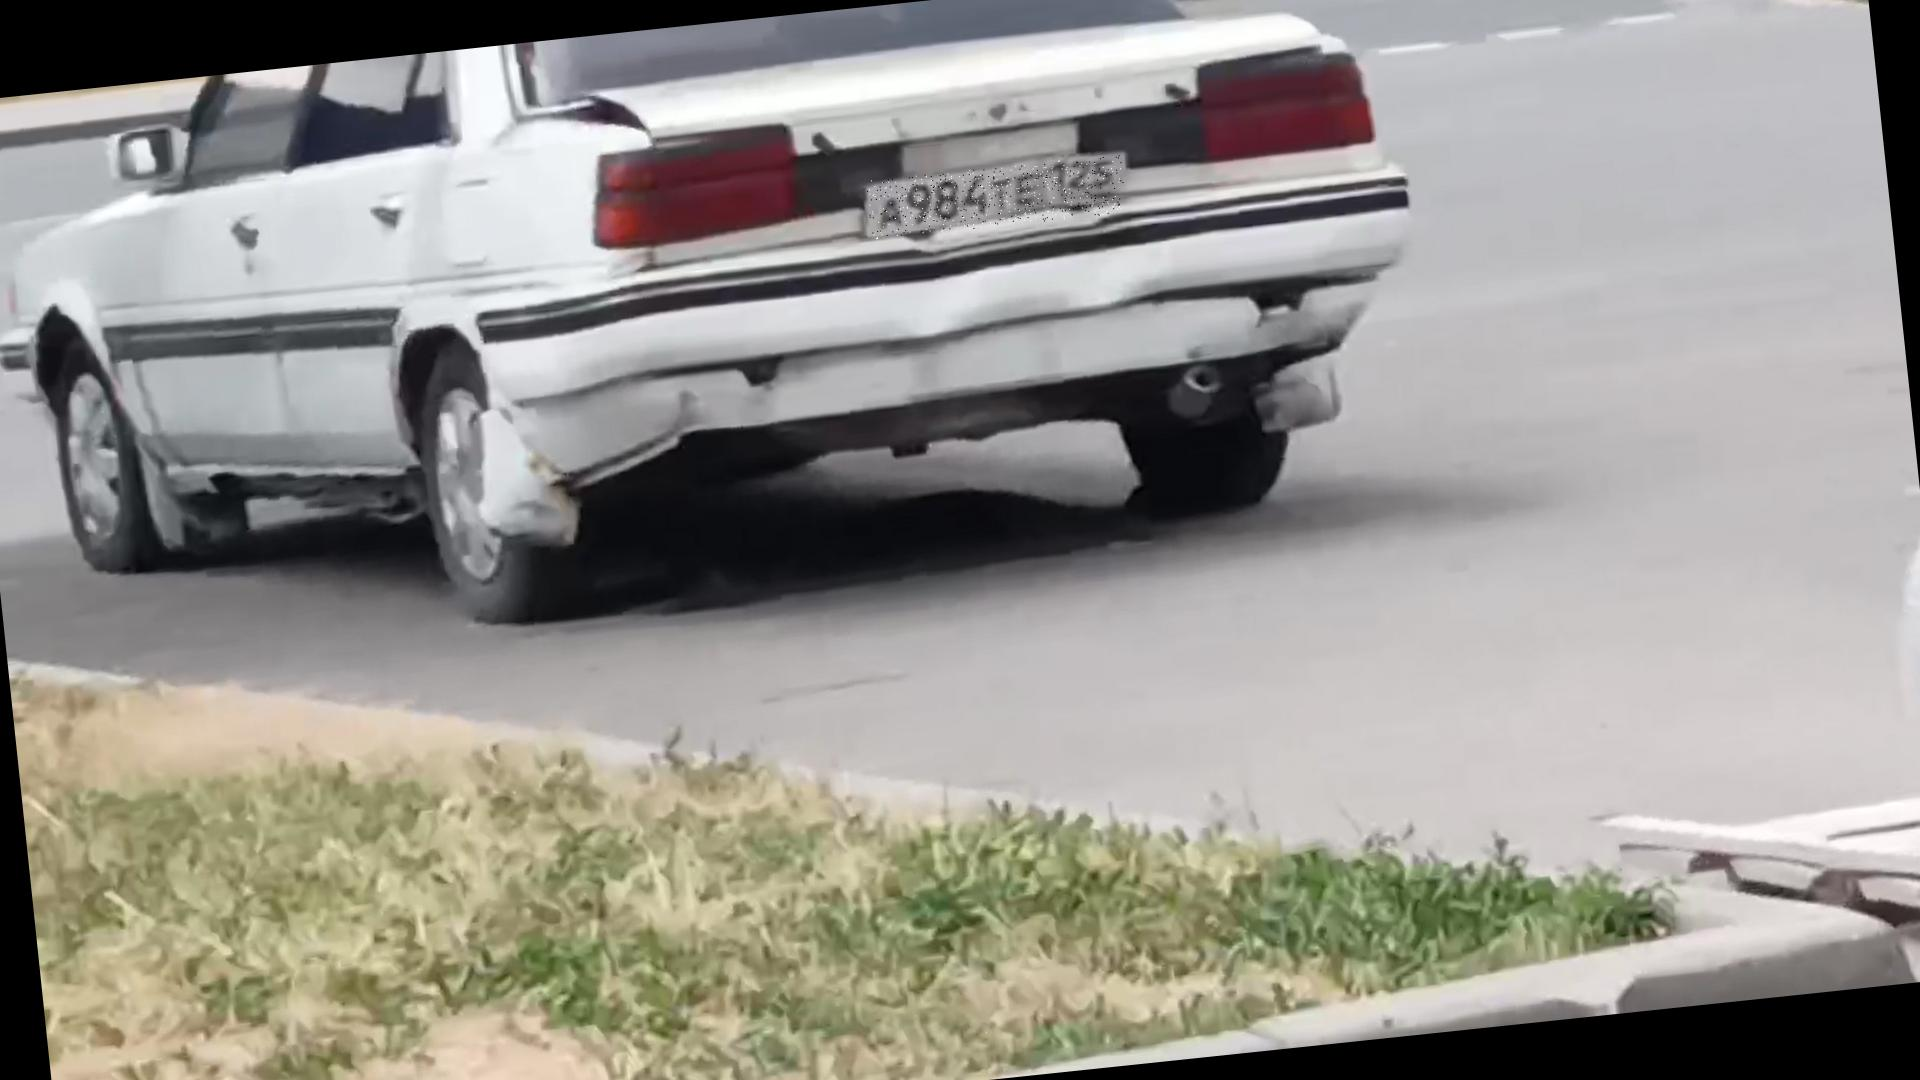plate: (868, 155, 1129, 241)
